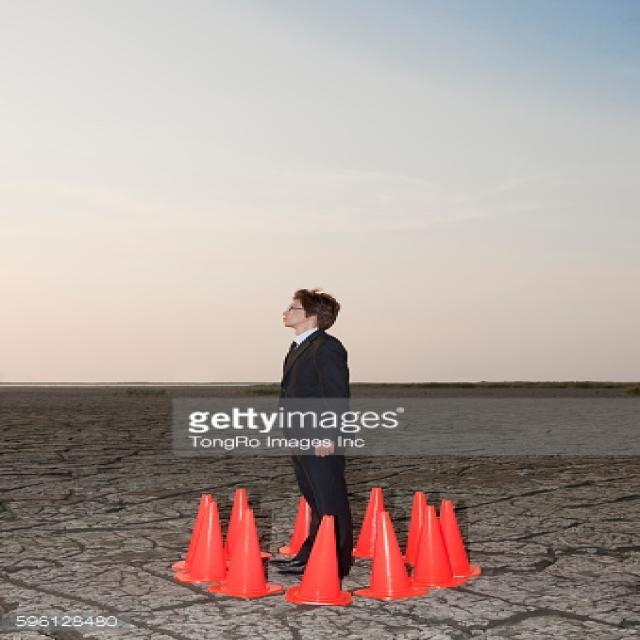cone: (281, 513, 353, 607), (208, 510, 283, 600), (357, 512, 425, 601), (404, 506, 459, 592), (176, 502, 227, 583)
